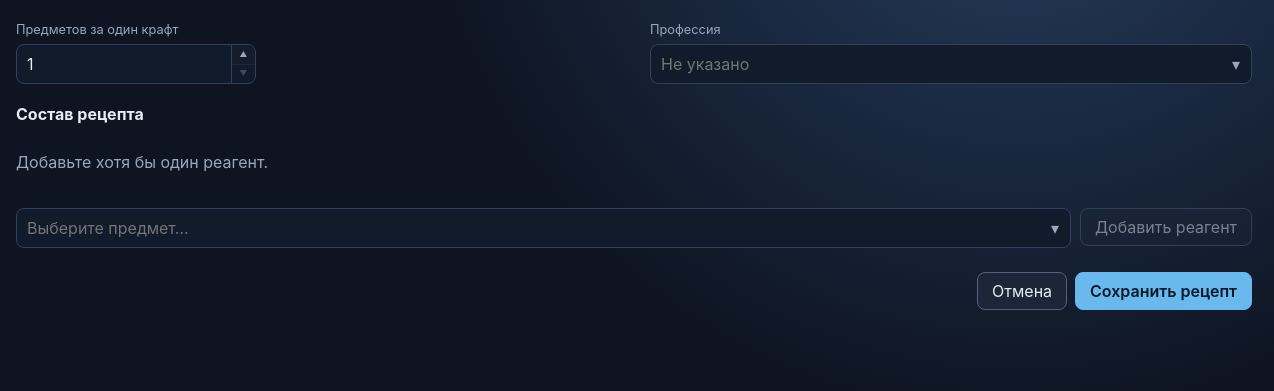
Test: RecipeEditor › не сохраняет рецепт без реагентов
This screenshot has width=1274, height=391.
Click the button "Сохранить рецепт" at (1164, 291), box x1=1075 y1=272 x2=1252 y2=310
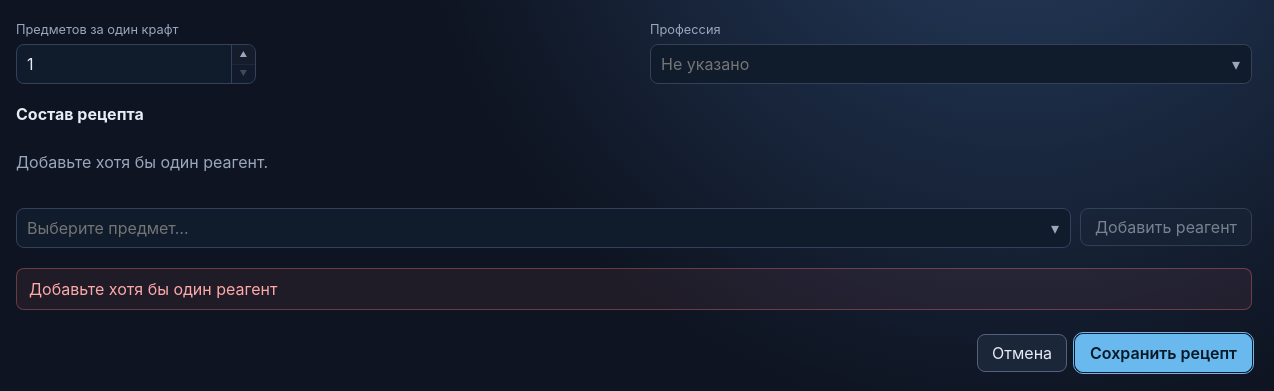
Check: the message reads "Добавьте хотя бы один реагент", box x1=29 y1=279 x2=277 y2=299
